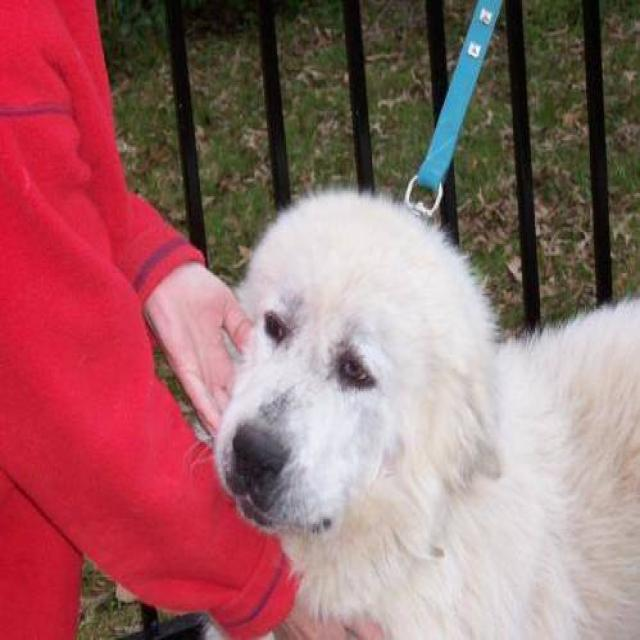Dog: (187, 151, 504, 568)
